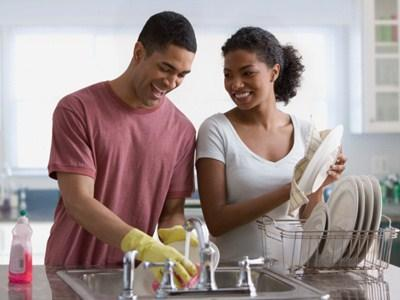person: (45, 11, 201, 294)
